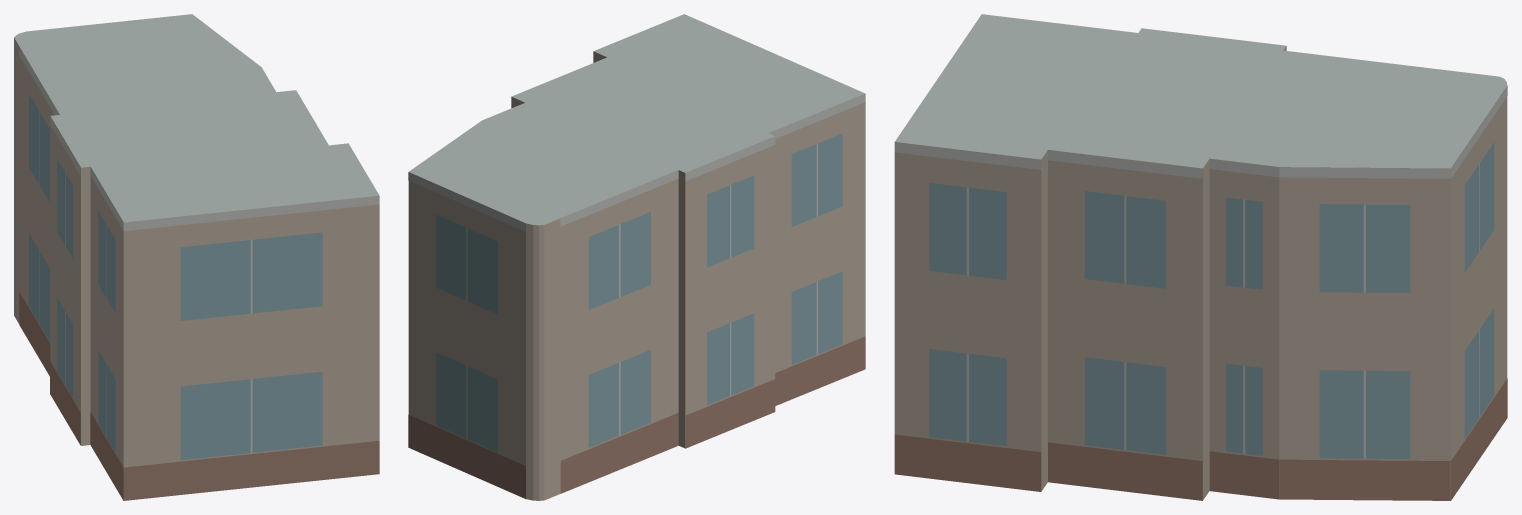
The model's file is survey-upis-32737653.glb.
The picture shows the model from 3 angles, left to right: view 1: azimuth 30°, elevation 25°; view 2: azimuth 150°, elevation 25°; view 3: azimuth 270°, elevation 25°; orthographic projection. The views are drawn at different scales.
Parts seen in each view (by area): view 1: survey-upis-32737653.tmp; view 2: survey-upis-32737653.tmp; view 3: survey-upis-32737653.tmp.
Boxes of the visible parts, x1,y1,x2,y2 form: survey-upis-32737653.tmp: (14, 14, 379, 500); survey-upis-32737653.tmp: (408, 14, 865, 500); survey-upis-32737653.tmp: (894, 14, 1507, 500).
Bounding box in the file's own units: 7.78 × 7.8 × 13.04.
